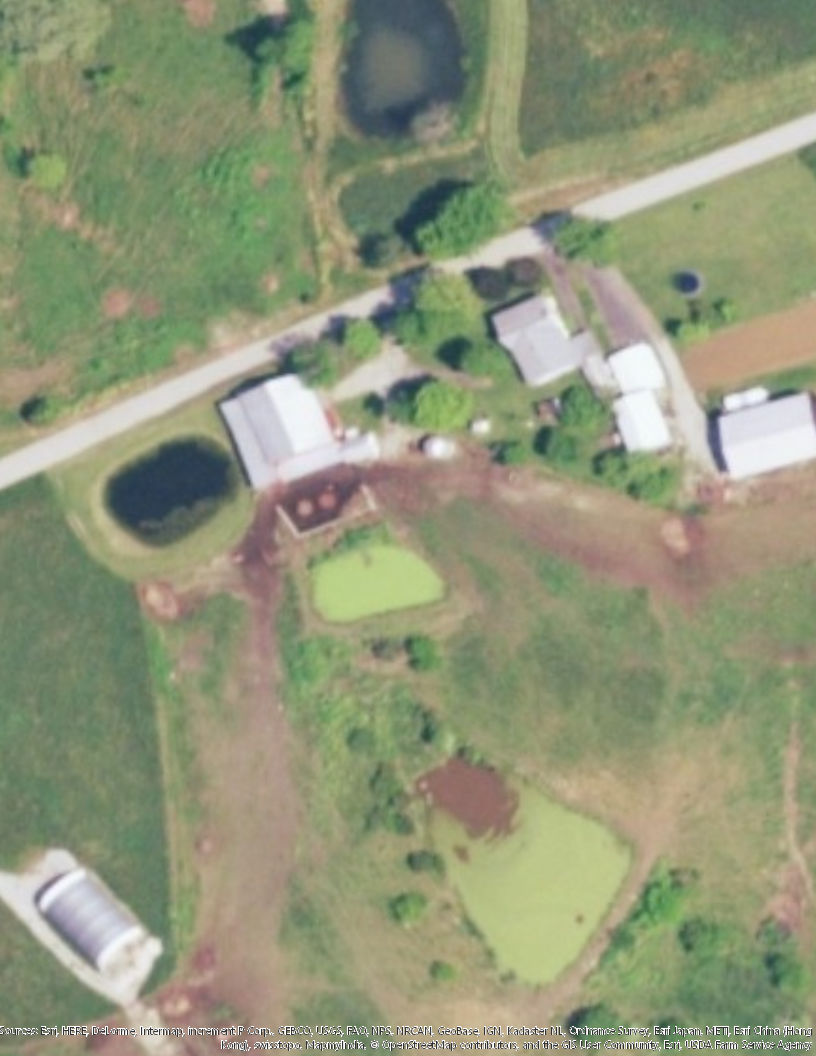cafo: (212, 357, 364, 491), (32, 862, 158, 982), (701, 382, 816, 488)
